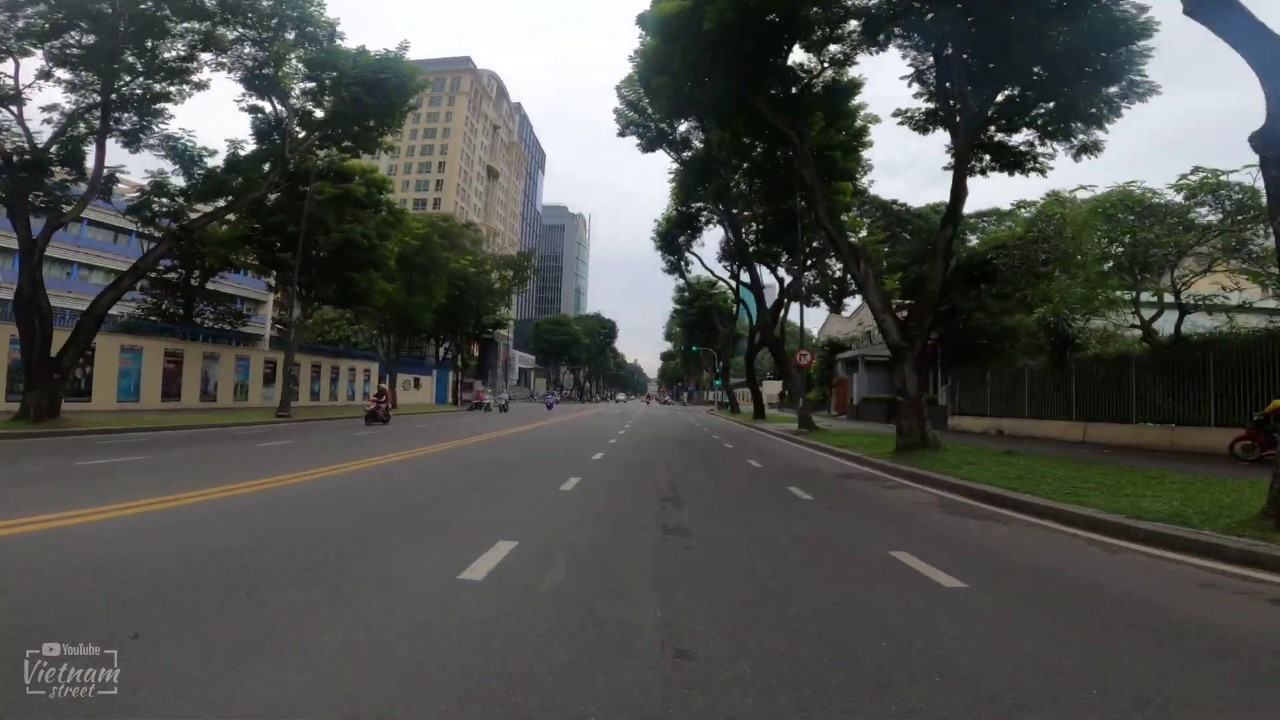cam_re_phai: (795, 348, 813, 367)
